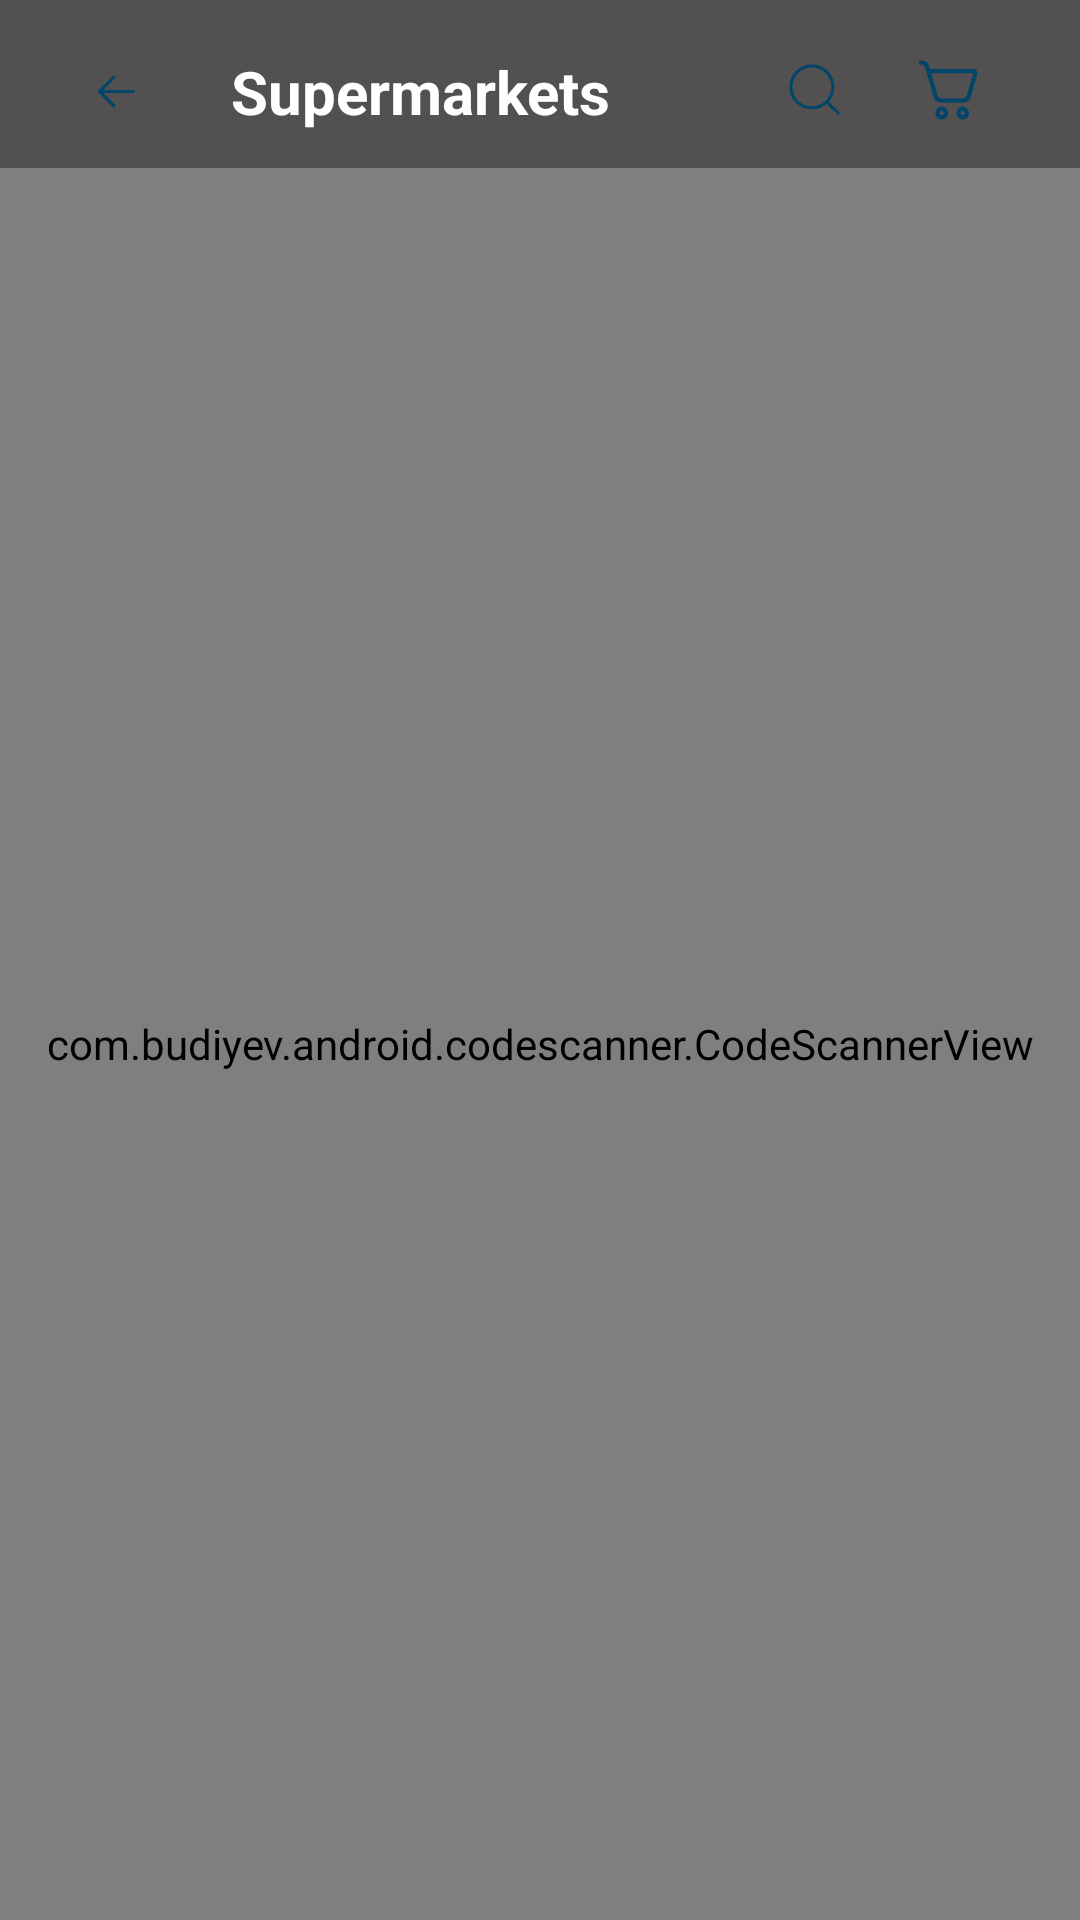

Named icons in this screenshot (1080x1920) and their centers, [x,y]:
back: [116,91]
cart: [948,90]
search: [814,89]
